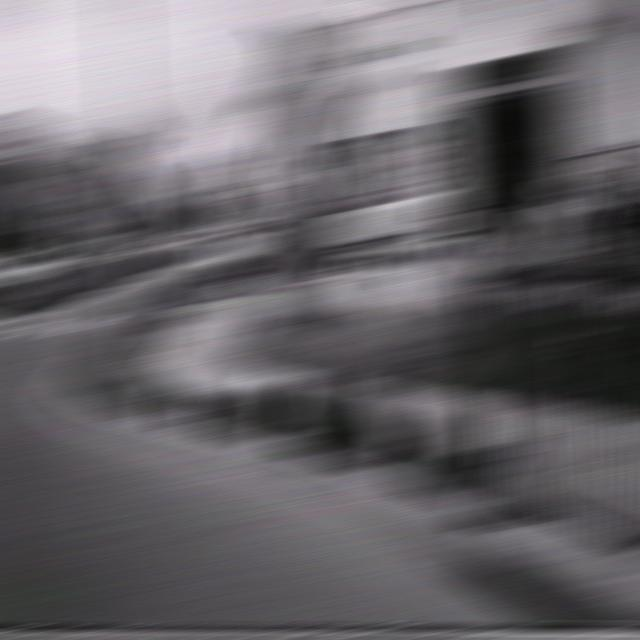pedestrianCrossing: (168, 175, 217, 223)
